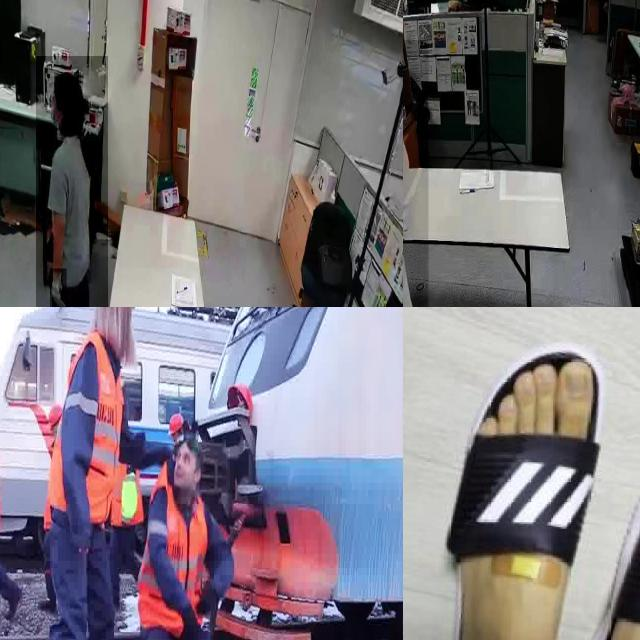Sandals: (436, 338, 631, 640)
boots: (10, 576, 21, 624)
hand_glove: (183, 609, 205, 640), (50, 268, 67, 307)
head_helmet: (227, 384, 253, 406), (168, 413, 184, 438), (49, 404, 59, 428)
head_nohelmet: (54, 72, 82, 93)
person: (22, 307, 140, 640), (137, 409, 235, 640), (35, 56, 108, 307)
vest: (49, 335, 125, 522), (136, 463, 206, 632)
